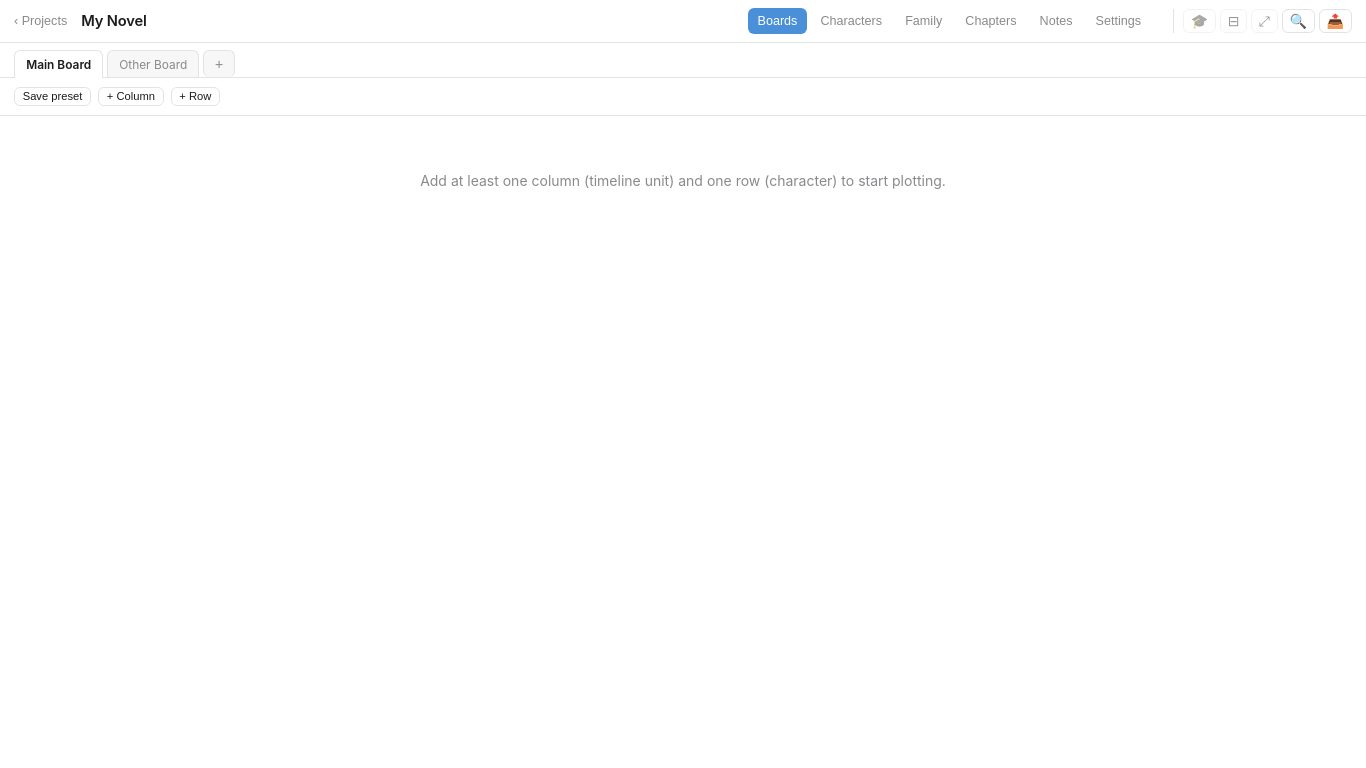
Test: the Family tab › is scoped to the active board — switching boards switches the cast
This screenshot has width=1366, height=768.
Click the button "Family" at point(924, 21), box [895,8,952,34]
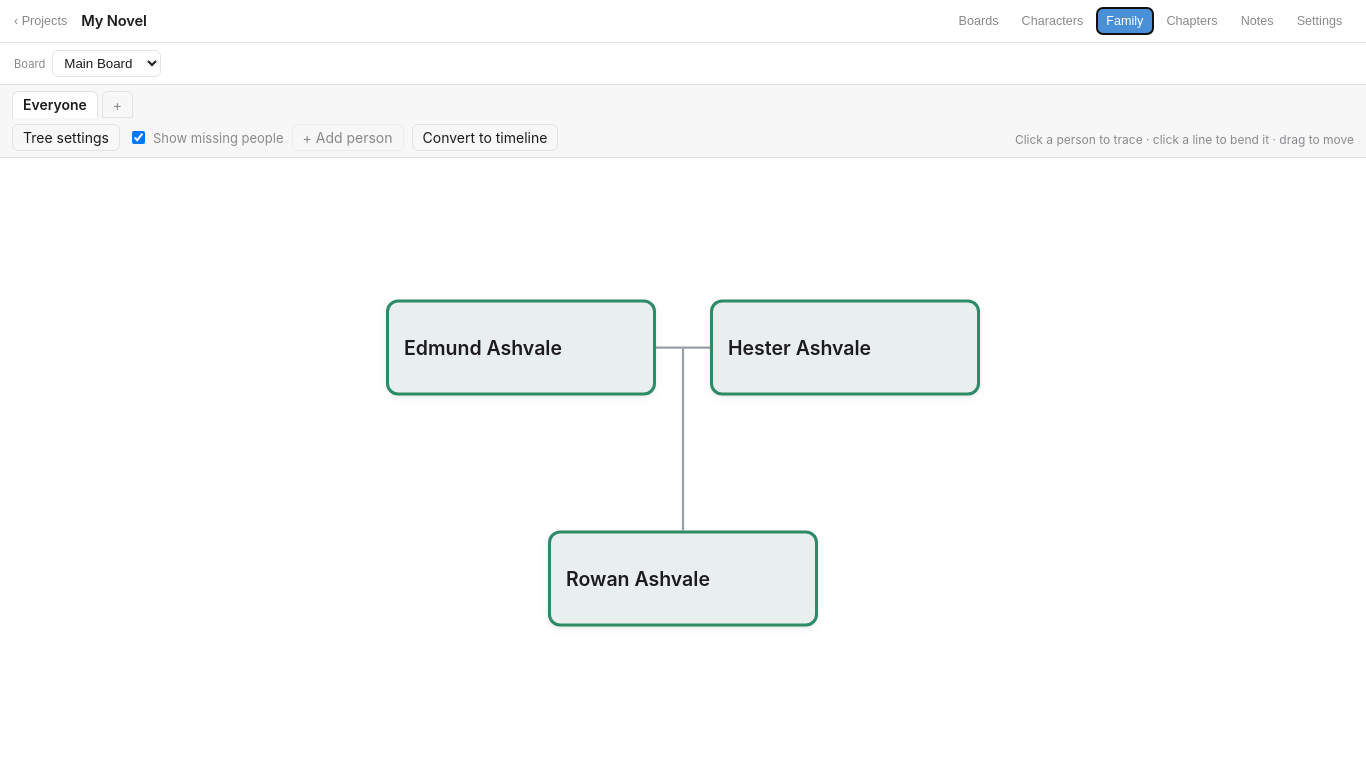
Expected: the text "Elsewhere Person" is not shown
Now the text "Edmund Ashvale" is shown, box [404,336,562,360]
Select "Other Board" in the dropdown at point(107, 64), box [52,50,161,77]
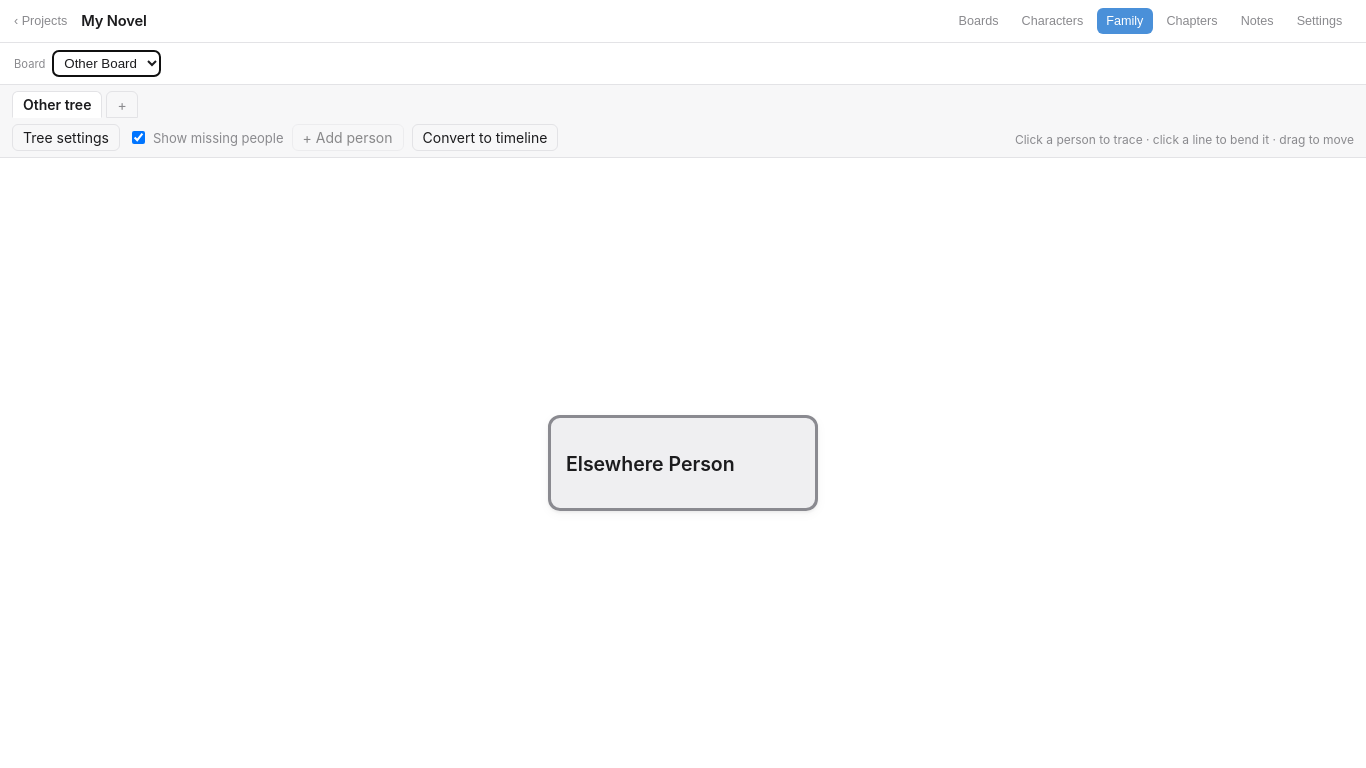
Now the text "Elsewhere Person" is shown, box [566,451,735,475]
Now the button "Edmund Ashvale" is gone
Now the button "Other tree" is shown, box [12,91,102,118]
